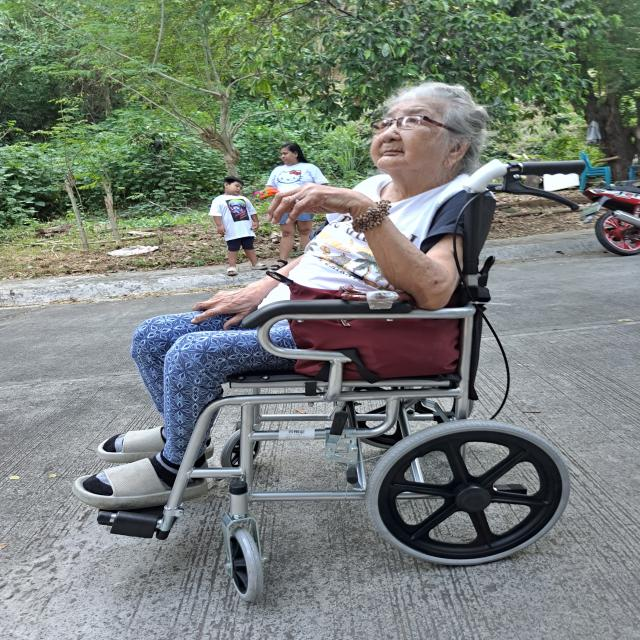wheelchairs: (95, 155, 593, 601)
